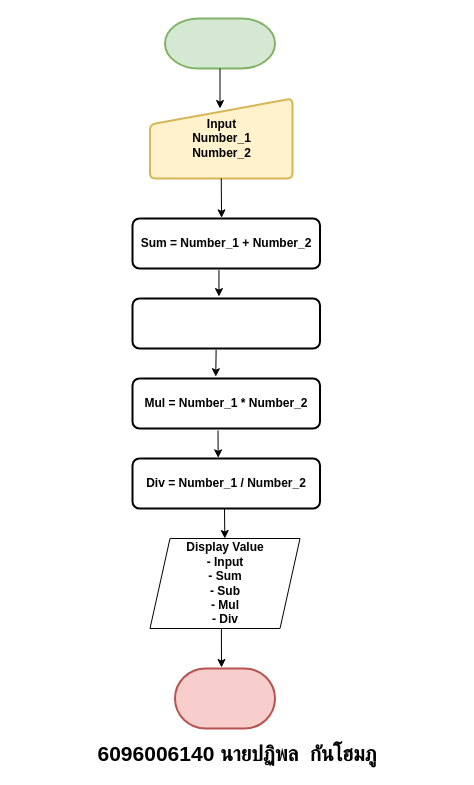
Some shapes in this 474 by 785 pixel diagram are drawn without their labels. The centre of each missing label's shape, as x and y in pixels:
Start: (x=220, y=43)
STOP: (x=225, y=698)
Sub = Number_1 - Number_2: (x=225, y=323)
